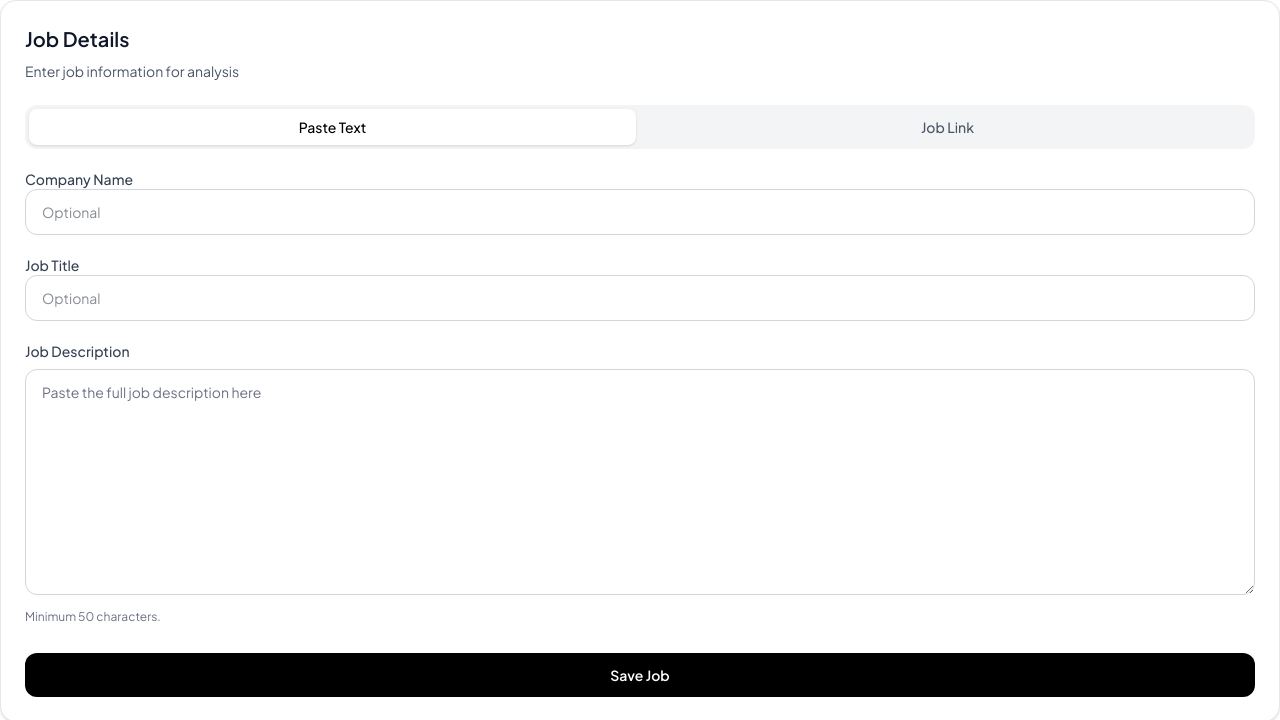
it: JobForm › submits a LINK job successfully
Step 1. Click the button "Job Link" → coordinates (948, 127), box [644,109,1251,145]
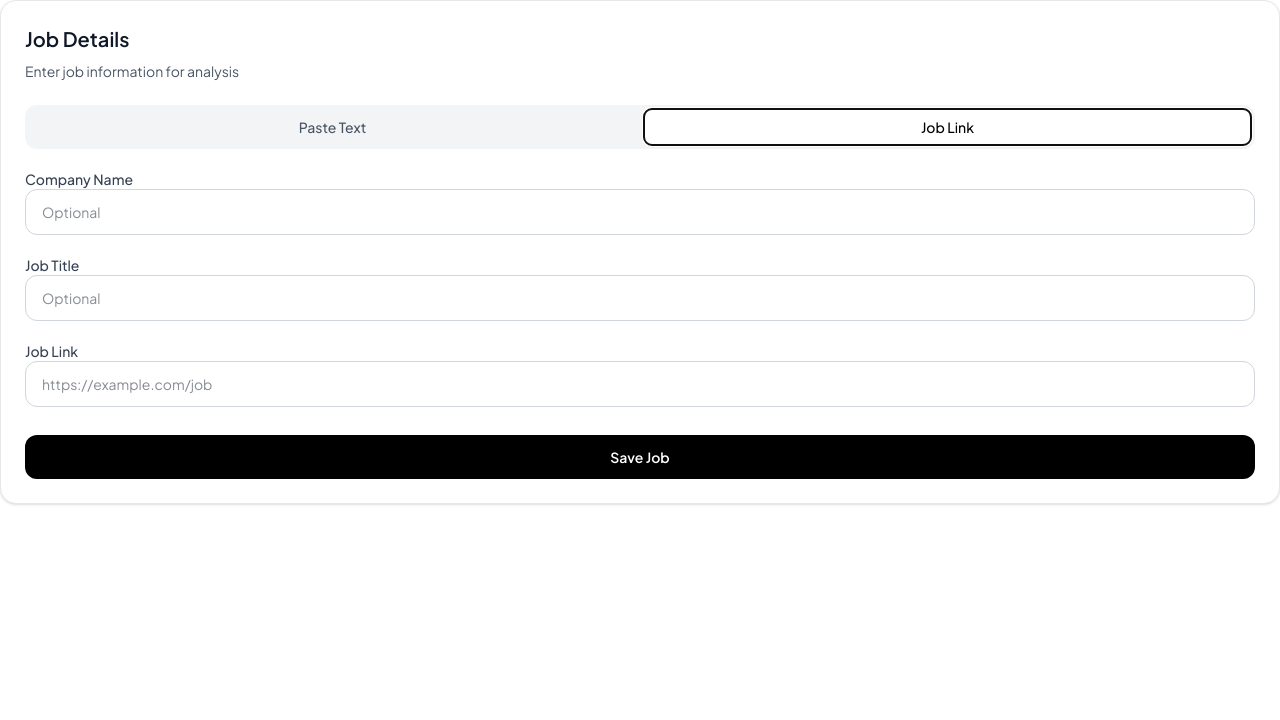
Step 2. Type "https://example.com/jobs/frontend" into the field labelled "Job Link" → coordinates (640, 384), box [25,361,1255,407]
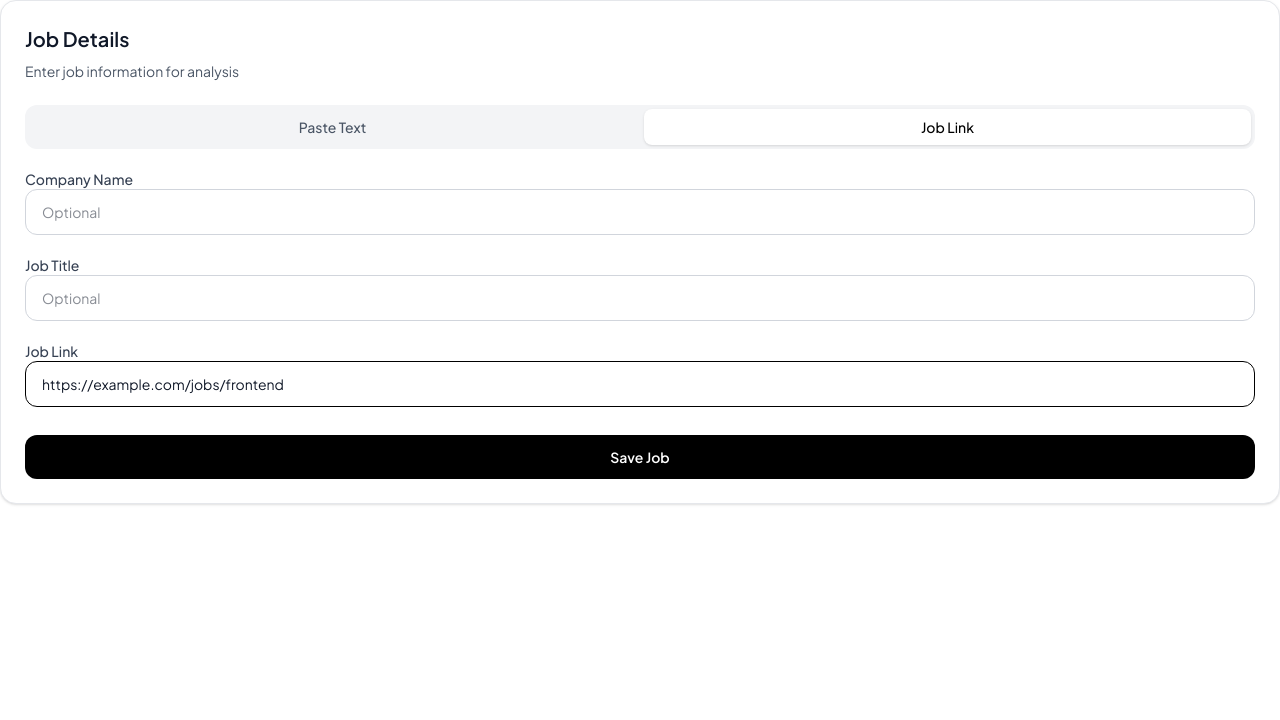
Step 3. Click the button with aria-label "Submit job analysis" → coordinates (640, 457), box [25,435,1255,479]
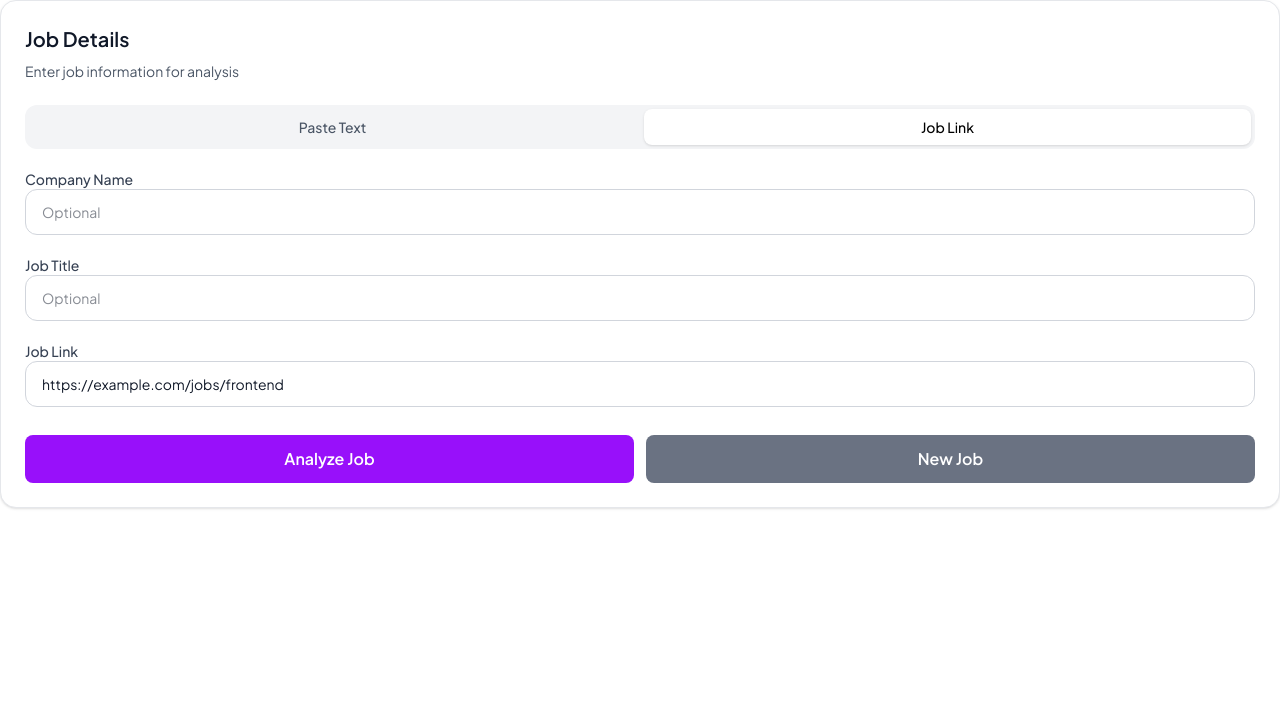
Now the button with aria-label "Analyze job description" is shown, box [25,435,634,483]
